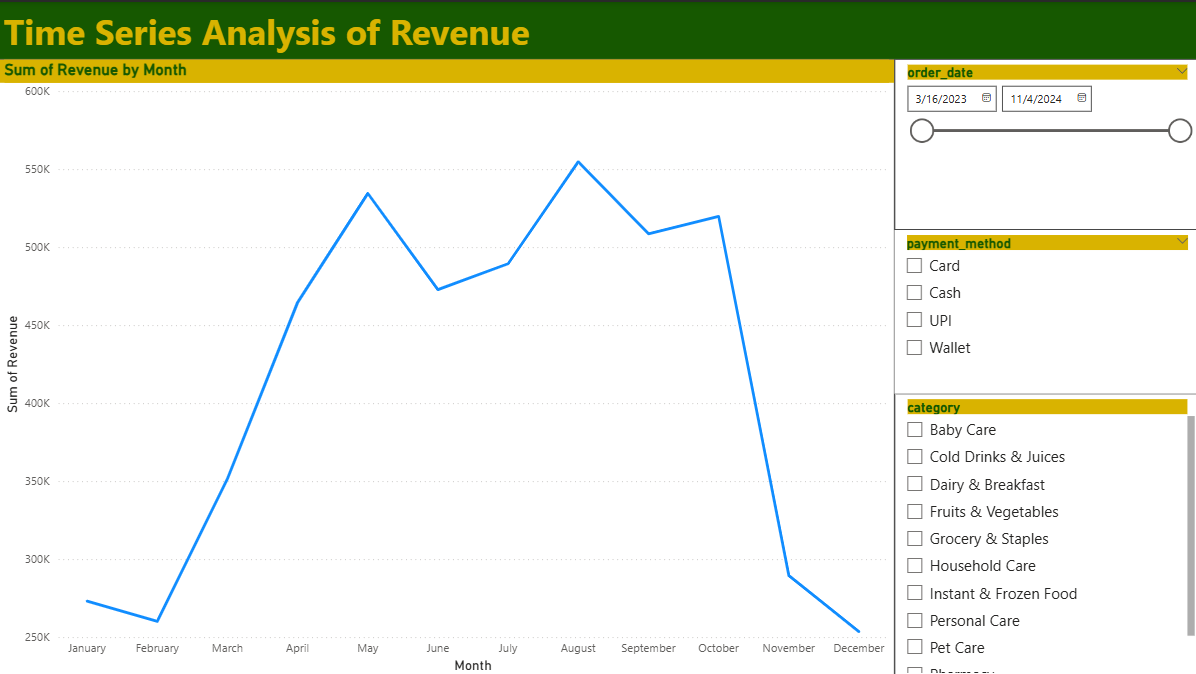

This screenshot's page, from the dashboard's own definition file:
{"tool":"powerbi","page":{"name":"Page 1","canvas":[1280,720],"ordinal":0},"visuals":[{"type":"lineChart","fields":{"Category":["blinkit_orders.order_date.Variation.Date Hierarchy.Year","blinkit_orders.order_date.Variation.Date Hierarchy.Quarter","blinkit_orders.order_date.Variation.Date Hierarchy.Month","blinkit_orders.order_date.Variation.Date Hierarchy.Day"],"Y":["Sum(blinkit_order_items xlsx.Revenue)"]},"box":[0,60.7,953.8,659.8],"z":0},{"type":"slicer","fields":{"Values":["blinkit_orders.order_date"]},"box":[953.8,60.7,325.9,182.1],"z":1000},{"type":"textbox","box":[0,0,1279.7,60.7],"z":2000},{"type":"slicer","fields":{"Values":["blinkit_products.category"]},"box":[953.8,417,325.9,303.6],"z":3000},{"type":"slicer","fields":{"Values":["blinkit_orders.payment_method"]},"box":[953.8,242.8,325.9,174.1],"z":4000}]}

Visuals, with their boxes in screenshot pixels (x1, y1, x2, y2), scaled from the page's 1280x720 canvas onto the 1196x674 screenshot:
lineChart - blinkit_orders.order_date.Variation.Date Hierarchy.Year x blinkit_orders.order_date.Variation.Date Hierarchy.Quarter: [x1=0, y1=57, x2=891, y2=673]
slicer - blinkit_orders.order_date: [x1=891, y1=57, x2=1195, y2=227]
textbox: [x1=0, y1=0, x2=1195, y2=57]
slicer - blinkit_products.category: [x1=891, y1=390, x2=1195, y2=673]
slicer - blinkit_orders.payment_method: [x1=891, y1=227, x2=1195, y2=390]
